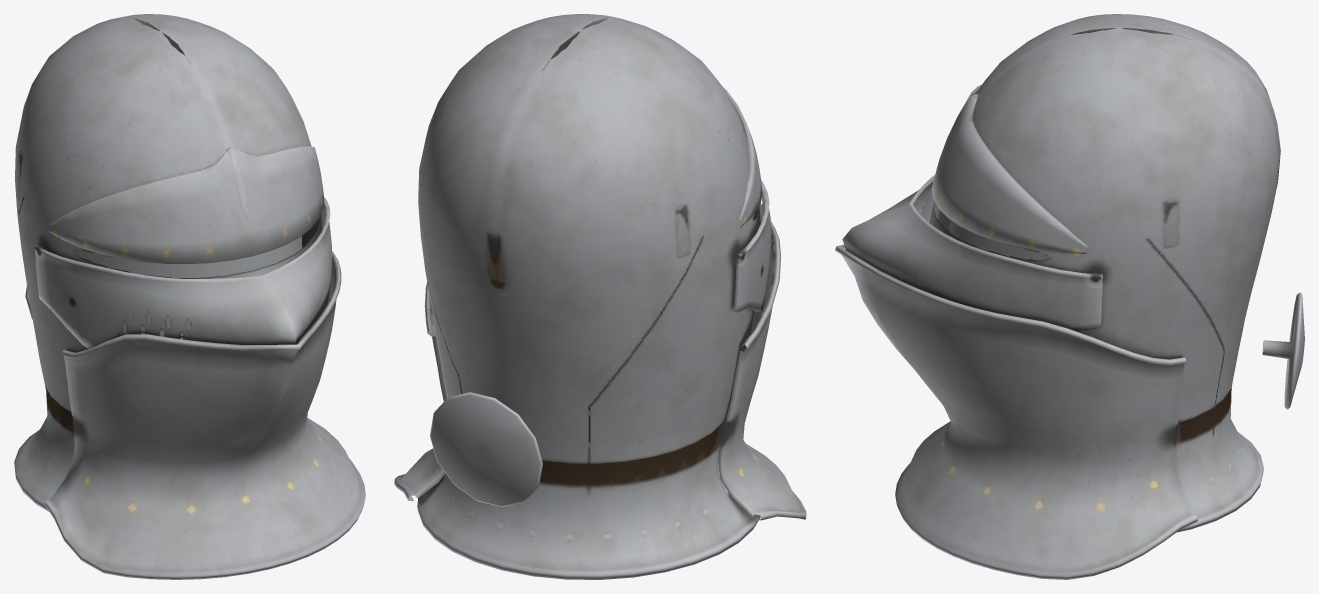
The model's file is armet_512.glb.
3 views of the same model, side by side, from view 1: azimuth 30°, elevation 25°; view 2: azimuth 150°, elevation 25°; view 3: azimuth 270°, elevation 25° (orthographic). The views are drawn at different scales.
Parts seen in each view (by area): view 1: helm_armet, visor; view 2: helm_armet, visor; view 3: helm_armet, visor.
Part boxes in pixels (bbox=[...]): helm_armet: bbox=[14, 14, 365, 579]; visor: bbox=[33, 197, 331, 348]; helm_armet: bbox=[394, 14, 806, 579]; visor: bbox=[734, 180, 771, 312]; helm_armet: bbox=[835, 14, 1304, 579]; visor: bbox=[842, 175, 1103, 331].
Size of the model in its own units: 0.2956 by 0.4139 by 0.3742.
1 material, 1 textured.
